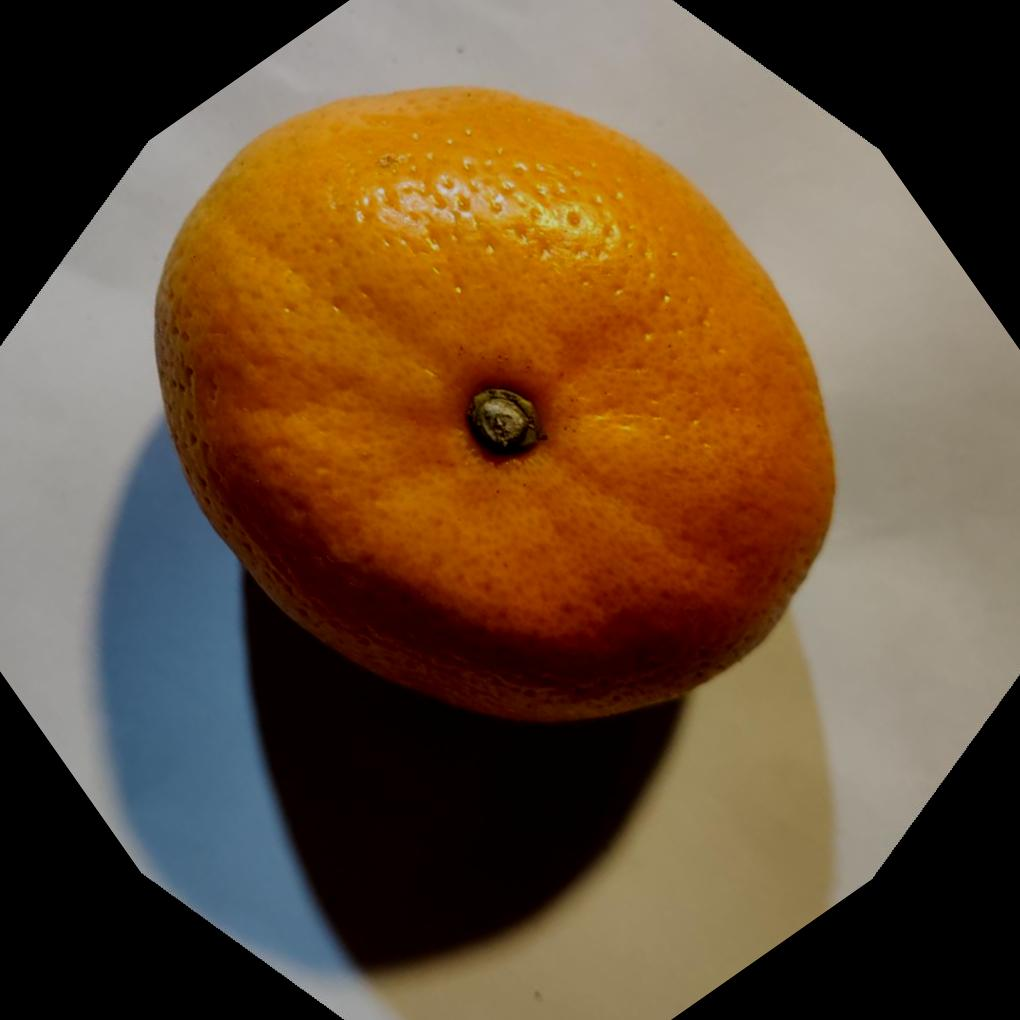FreshGuava: (152, 86, 841, 730)
